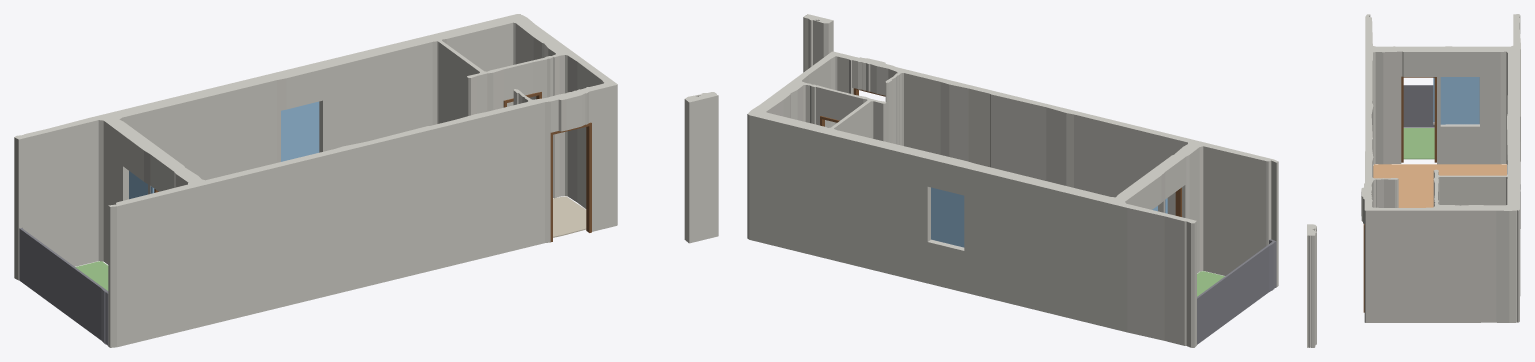
3 views of the same model, side by side, from view 1: azimuth 30°, elevation 25°; view 2: azimuth 150°, elevation 25°; view 3: azimuth 270°, elevation 25° (orthographic). The views are drawn at different scales.
Visible parts, largest first — view 1: walls, railings, window_3, floor_7_Entry, door_2, floor_0_Outdoor; view 2: walls, railings, window_3; view 3: walls, floor_2_Living_Room, window_4, railings, floor_0_Outdoor, door_1, door_2.
Boxes of the visible parts, x1,y1,x2,y2 form: walls: (14,14,718,347); railings: (19,227,108,345); window_3: (281,101,319,161); floor_7_Entry: (553,196,586,237); door_2: (550,122,591,241); floor_0_Outdoor: (75,261,108,290); walls: (747,14,1278,347); railings: (1197,239,1276,344); window_3: (931,187,964,247); walls: (1307,14,1520,347); floor_2_Living_Room: (1373,164,1506,207); window_4: (1440,77,1479,124); railings: (1403,85,1434,127); floor_0_Outdoor: (1403,128,1434,159); door_1: (1401,76,1436,162); door_2: (1363,224,1364,312).
Bounding box in the file's own units: 11.45 × 2.72 × 4.66.
